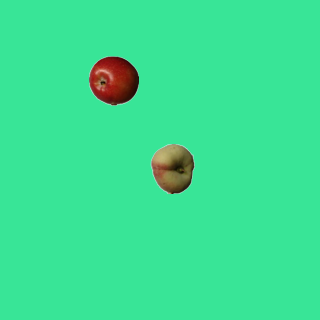Apple Braeburn: (88, 55, 138, 105)
Peach Flat: (147, 143, 197, 193)
